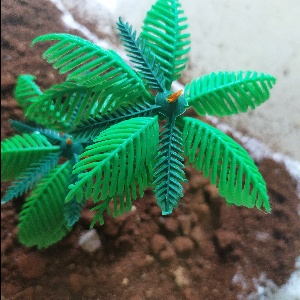plant: (6, 4, 267, 236)
